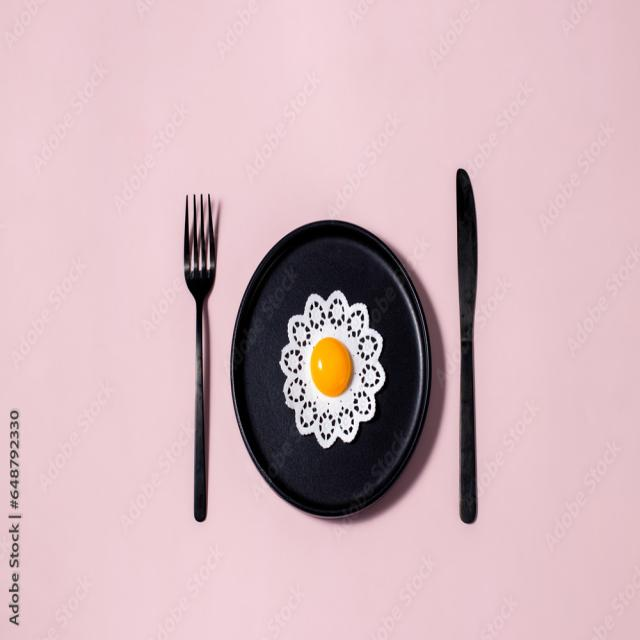Egg: (280, 290, 385, 447)
